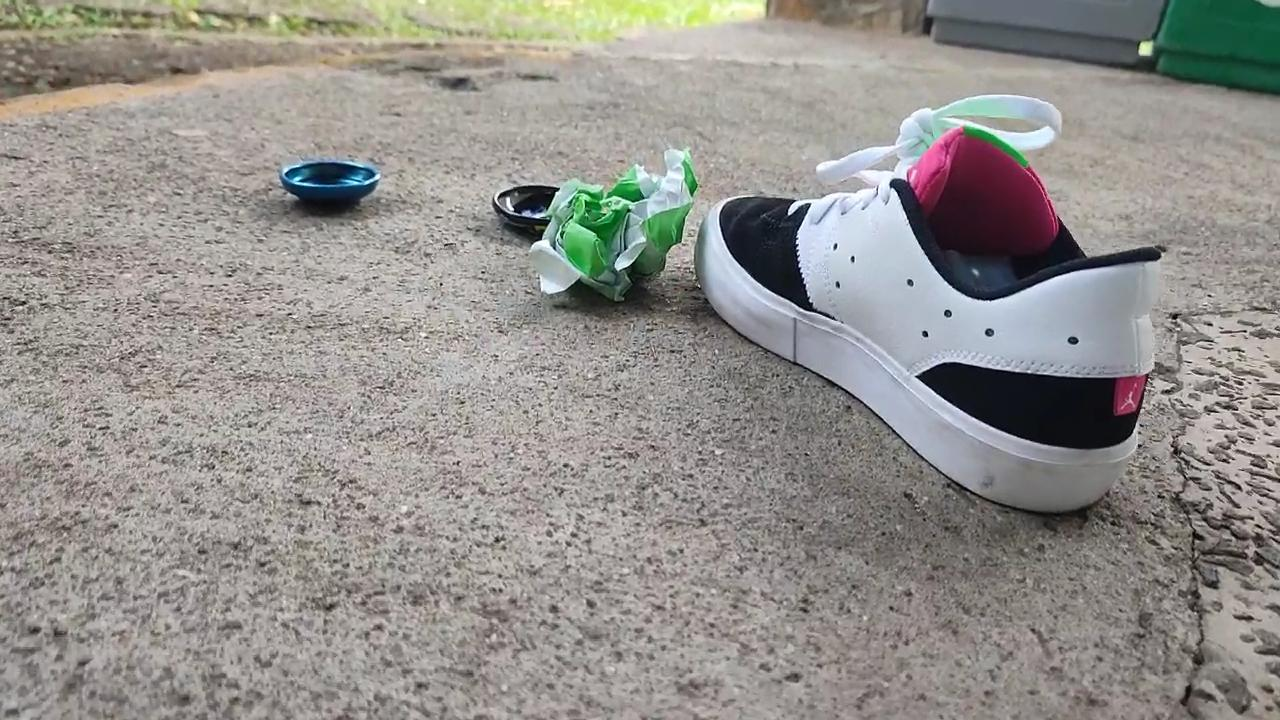Paper: (526, 132, 708, 303)
